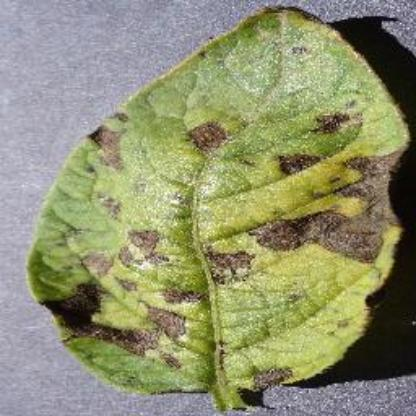Early-Blight: (29, 7, 412, 407)
